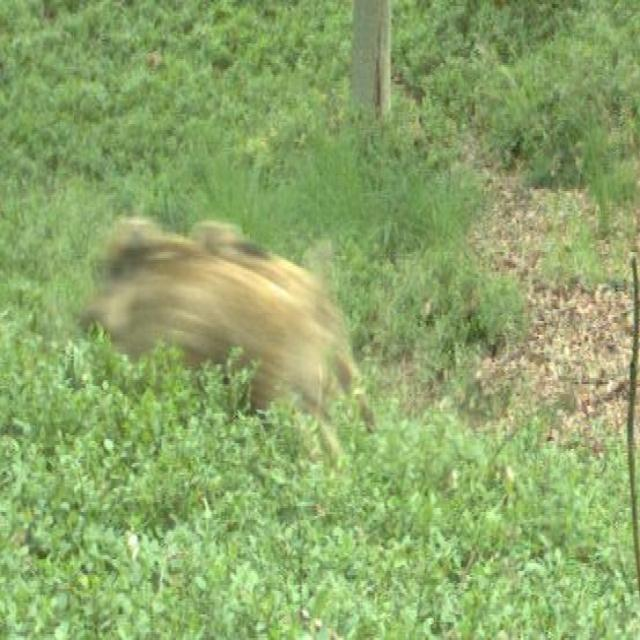pig: (62, 178, 370, 466), (203, 209, 360, 344)
